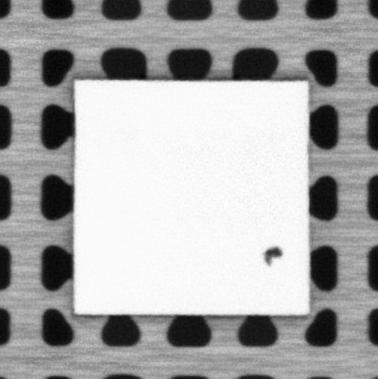DIE_INK: (261, 244, 286, 266)
